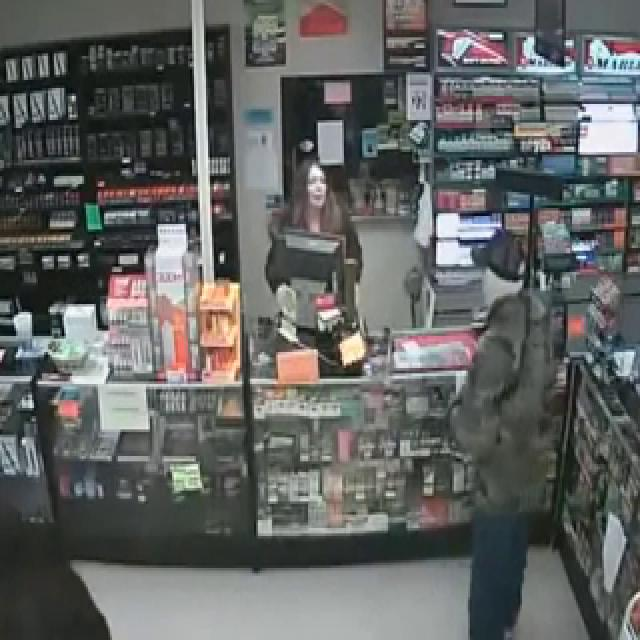robbery: (218, 80, 580, 621)
